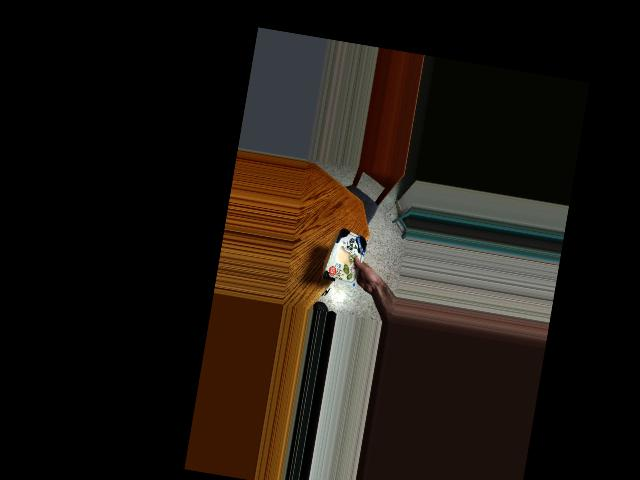cheese: (323, 232, 372, 278)
